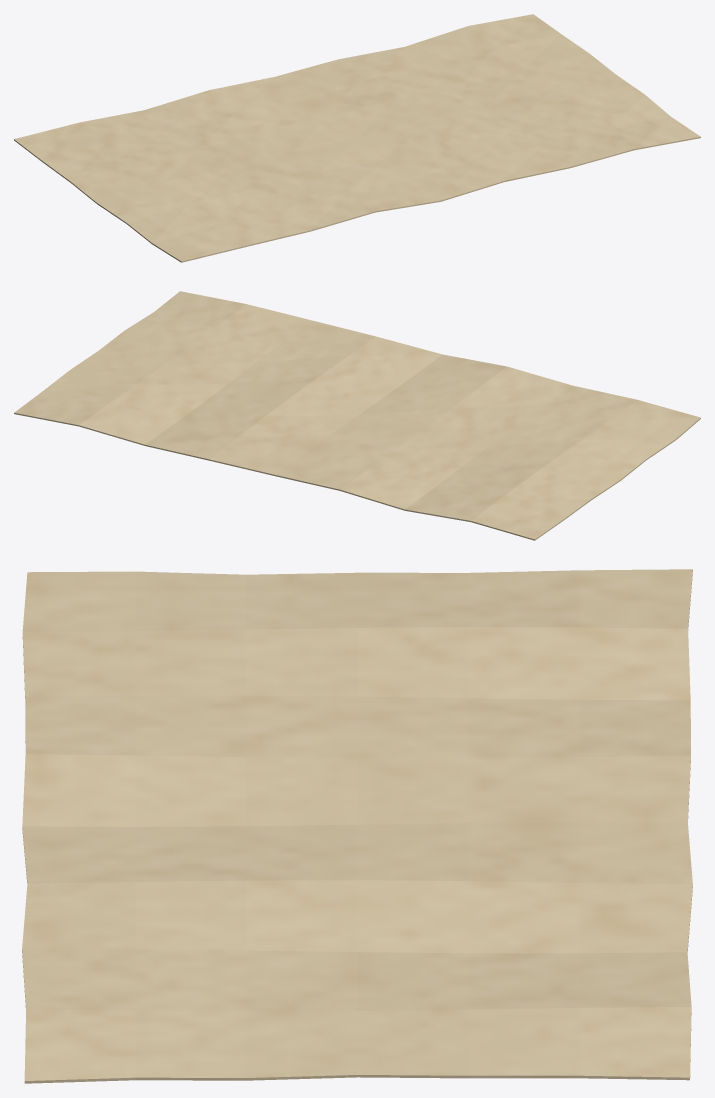
The model's file is Letter_Cipher.obj.
The picture shows the model from 3 angles, top to bottom: view 1: azimuth 30°, elevation 25°; view 2: azimuth 150°, elevation 25°; view 3: azimuth 270°, elevation 25°; orthographic projection. The views are drawn at different scales.
Parts seen in each view (by area): view 1: Letter_FoldedSurface; view 2: Letter_FoldedSurface; view 3: Letter_FoldedSurface.
Part boxes in pixels (left/top/right/bottom): Letter_FoldedSurface: left=14, top=14, right=700, bottom=262; Letter_FoldedSurface: left=14, top=291, right=700, bottom=540; Letter_FoldedSurface: left=22, top=569, right=692, bottom=1083.
Size of the model in its own units: 0.6329 by 0.00729 by 0.3528.
Materials: 1 (1 with a texture image).
